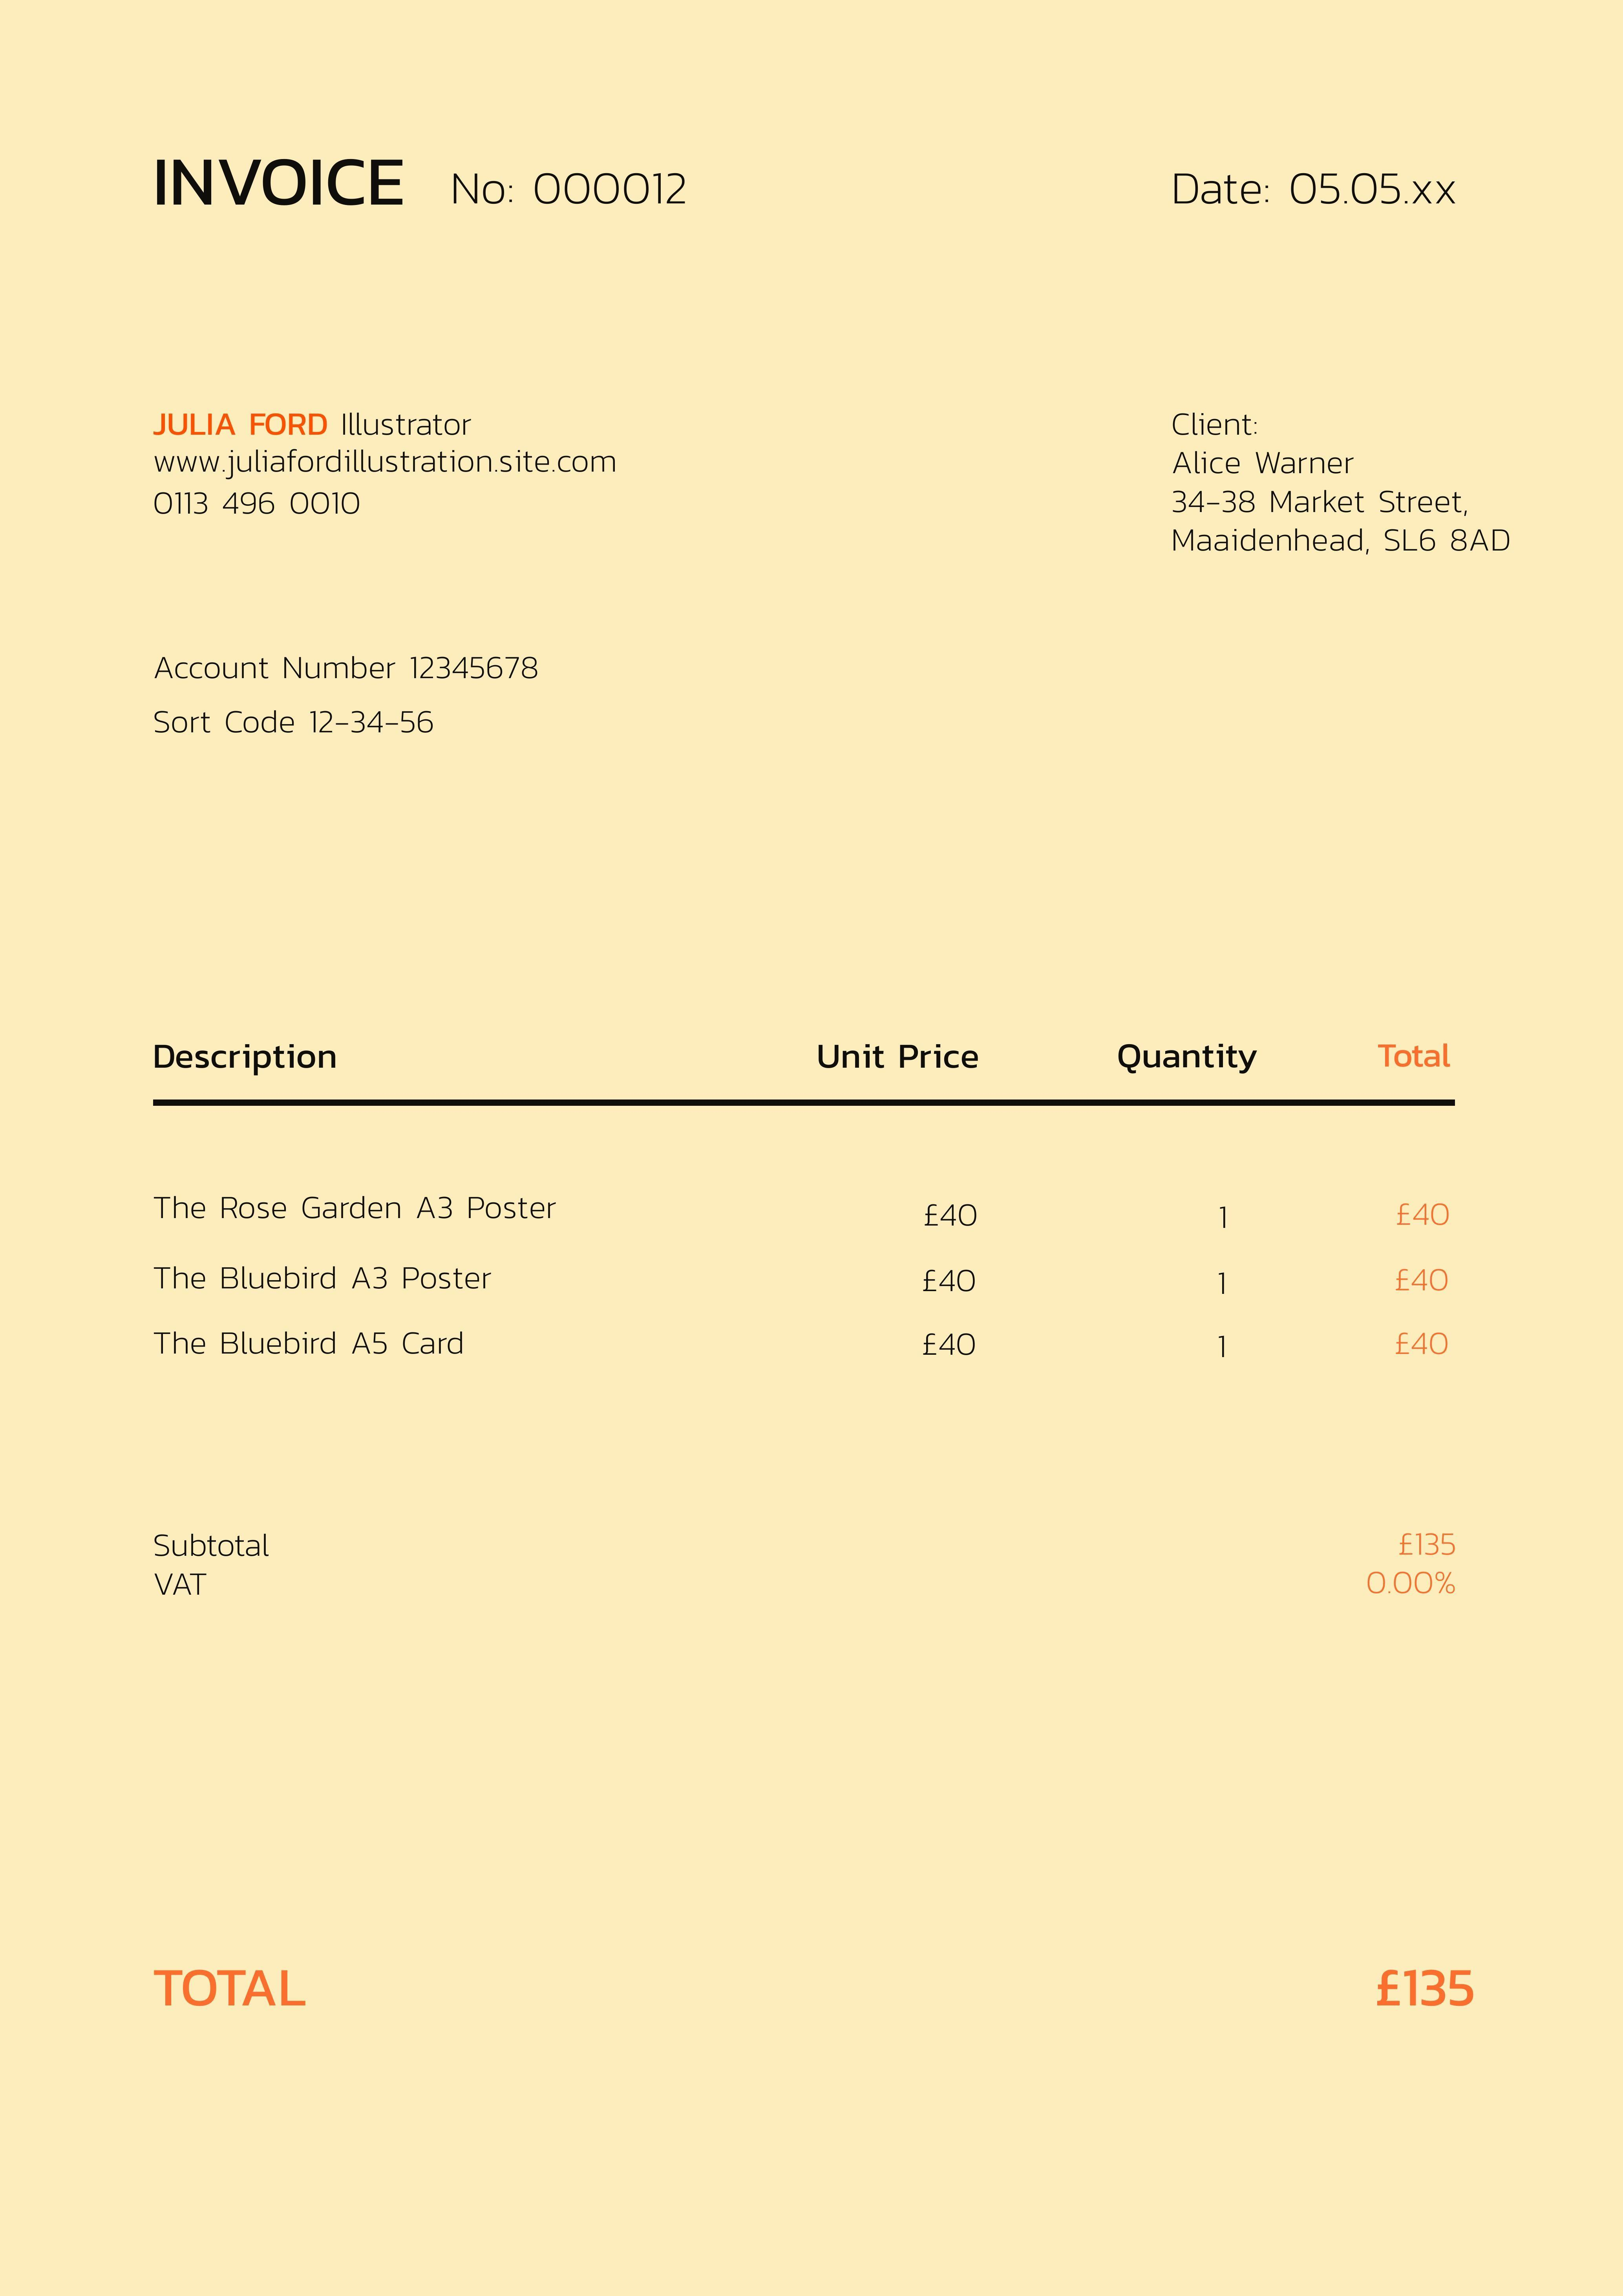ROI: (146, 1520, 1484, 2013), (151, 1036, 1454, 1384), (141, 139, 1470, 230), (142, 399, 636, 525), (1166, 406, 1519, 569), (141, 646, 567, 748)
